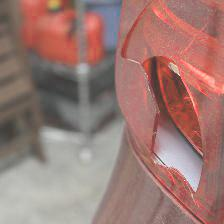tail_lamp: (130, 55, 209, 198)
